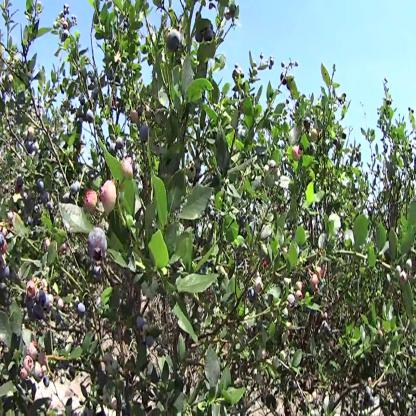intermediate: (86, 187, 115, 215), (26, 344, 44, 382), (310, 271, 319, 294), (293, 146, 302, 161)
mature: (89, 230, 110, 263), (110, 138, 126, 159), (196, 27, 216, 43), (169, 32, 182, 53), (141, 123, 151, 144)
young: (294, 283, 304, 304), (255, 279, 264, 298)
